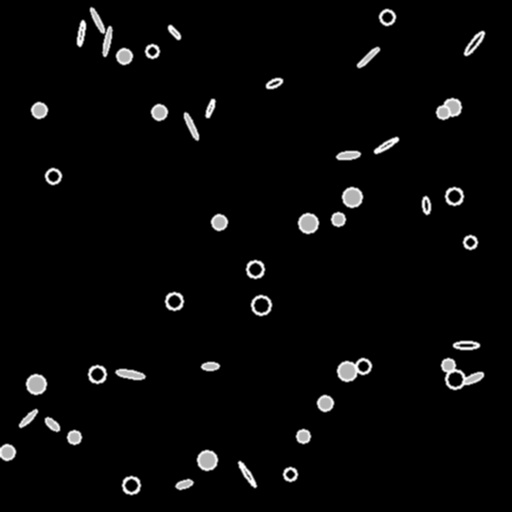pseudomonas: (462, 29, 486, 57), (356, 45, 380, 69), (237, 460, 257, 488), (373, 136, 399, 154), (183, 112, 199, 140), (89, 7, 105, 33), (18, 408, 38, 428), (462, 371, 484, 385), (102, 26, 112, 56), (116, 369, 144, 379), (166, 24, 182, 40), (44, 416, 60, 432), (175, 478, 193, 490), (265, 77, 283, 89), (77, 21, 85, 45), (205, 99, 215, 117), (337, 151, 359, 159), (453, 341, 478, 348), (422, 197, 430, 213), (201, 363, 219, 369)
synechocystis: (299, 214, 317, 232), (252, 296, 270, 314), (27, 375, 45, 393), (338, 362, 356, 380), (343, 188, 361, 206), (198, 451, 216, 469), (446, 370, 464, 388), (444, 99, 460, 115), (446, 188, 462, 204), (123, 477, 139, 493), (89, 366, 105, 382), (247, 261, 263, 277), (166, 293, 182, 309), (356, 359, 370, 373), (32, 103, 46, 117), (380, 10, 394, 24), (152, 105, 166, 119), (212, 215, 226, 229), (0, 445, 14, 459), (318, 396, 332, 410), (117, 49, 131, 63), (46, 169, 60, 183), (297, 430, 309, 442), (442, 359, 454, 371), (68, 431, 80, 443), (284, 468, 296, 480), (464, 236, 476, 248), (437, 106, 449, 118), (146, 45, 158, 57), (332, 213, 344, 225)
